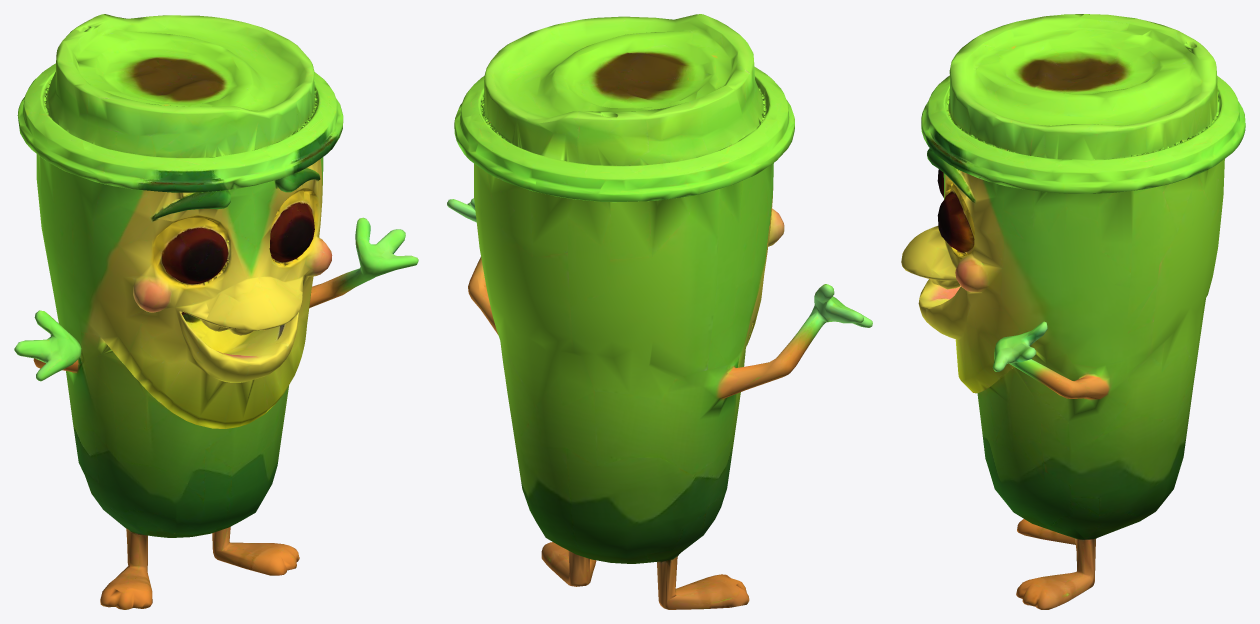
File: avocado-coffee-cup-54704.glb
3 renders of one model, left to right at view 1: azimuth 30°, elevation 25°; view 2: azimuth 150°, elevation 25°; view 3: azimuth 270°, elevation 25°, orthographic. The views are drawn at different scales.
Bounding box in the file's own units: 1.54 × 1.91 × 1.19.
1 material, 1 textured.
